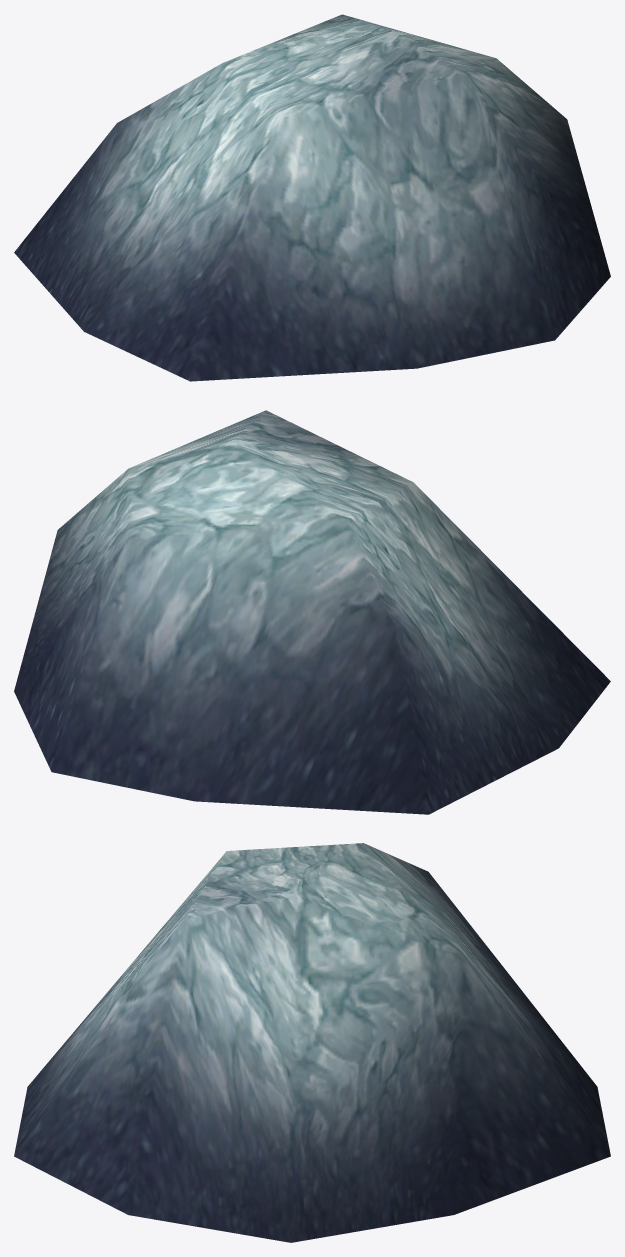
File: Set_rock.FBX
3 renders of one model, top to bottom at view 1: azimuth 30°, elevation 25°; view 2: azimuth 150°, elevation 25°; view 3: azimuth 270°, elevation 25°, orthographic. The views are drawn at different scales.
Visible parts, largest first — view 1: ghostlandscliffrock02_0; view 2: ghostlandscliffrock02_0; view 3: ghostlandscliffrock02_0.
Part boxes in pixels (x1,y1,x2,y2): ghostlandscliffrock02_0: (14,14,610,381); ghostlandscliffrock02_0: (14,410,610,814); ghostlandscliffrock02_0: (14,843,610,1242).
Size of the model in its own units: 19.01 by 7.98 by 17.73.
1 material, 1 textured.
